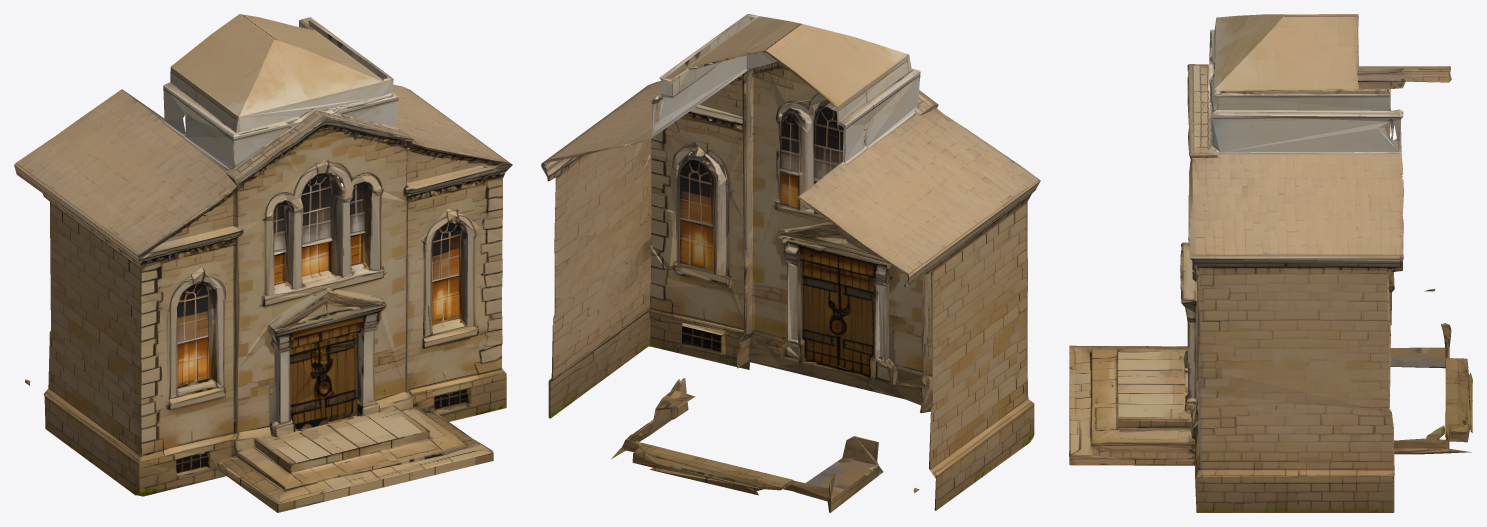
File: town_hall.glb
The picture shows the model from 3 angles, left to right: view 1: azimuth 30°, elevation 25°; view 2: azimuth 150°, elevation 25°; view 3: azimuth 270°, elevation 25°; orthographic projection. The views are drawn at different scales.
Visible parts, largest first — view 1: textured_mesh.obj; view 2: textured_mesh.obj; view 3: textured_mesh.obj.
Boxes of the visible parts, box(x1,y1,x2,y2) form: textured_mesh.obj: box(14, 14, 512, 512); textured_mesh.obj: box(541, 14, 1040, 512); textured_mesh.obj: box(1069, 14, 1472, 512).
Bounding box in the file's own units: 1.99 × 1.94 × 1.77.
1 material, 1 textured.
